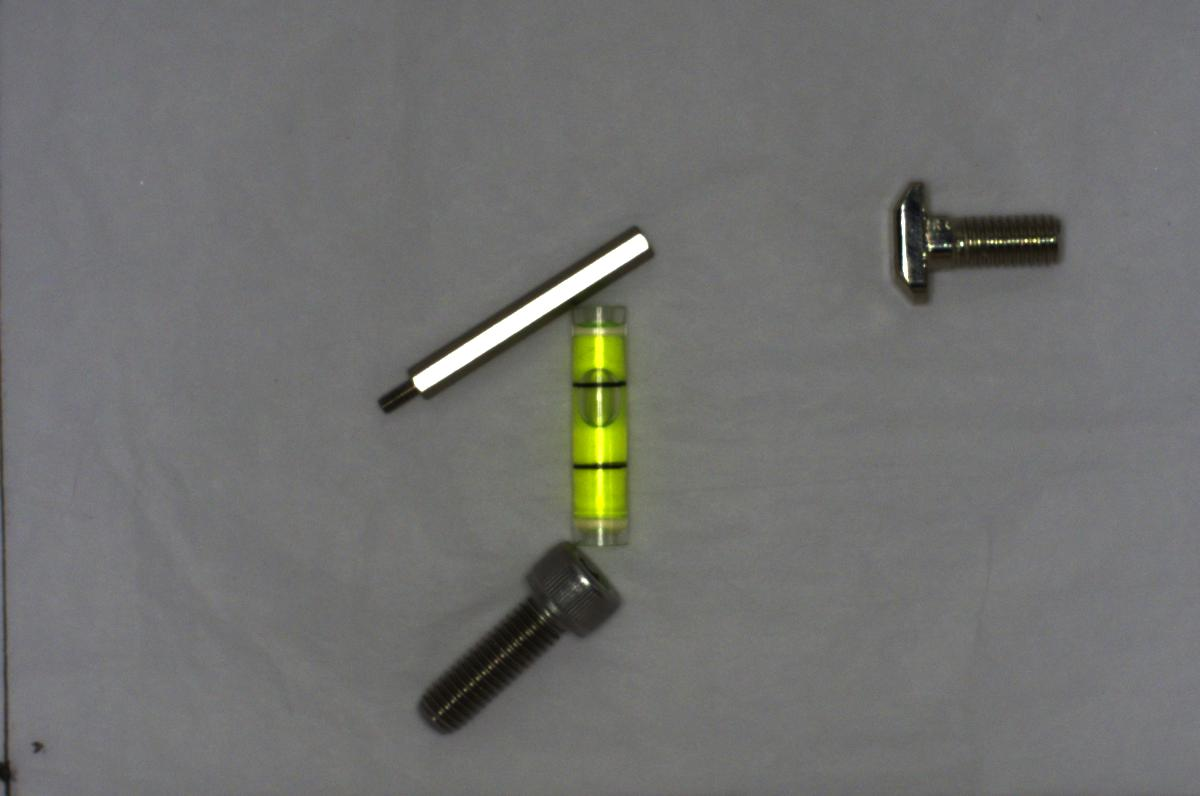Hexagon screw: (412, 535, 625, 740)
Hexagonal steel column: (361, 226, 653, 413)
Horizontal bubble: (562, 301, 646, 549)
T-shaped screw: (880, 180, 1087, 305)
